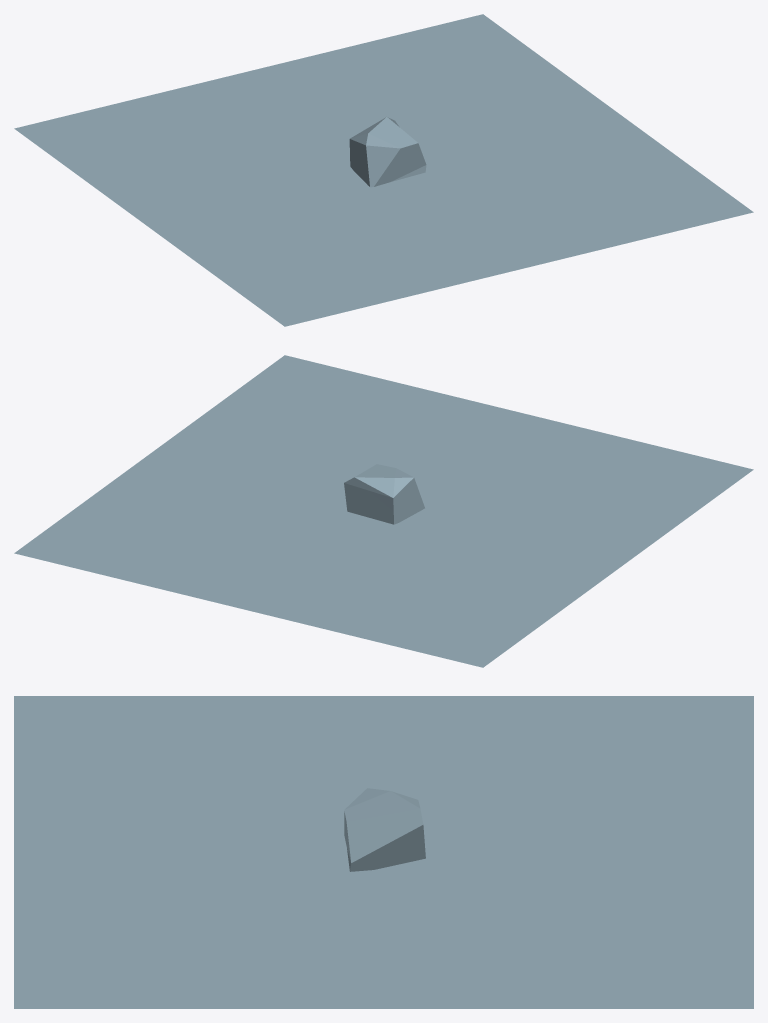
File: Tile 59_Combined.fbx
The picture shows the model from 3 angles, top to bottom: view 1: azimuth 30°, elevation 25°; view 2: azimuth 150°, elevation 25°; view 3: azimuth 270°, elevation 25°; orthographic projection. The views are drawn at different scales.
Parts seen in each view (by area): view 1: MeshBaker_mesh_mesh; view 2: MeshBaker_mesh_mesh; view 3: MeshBaker_mesh_mesh.
Part boxes in pixels (bbox=[...]): MeshBaker_mesh_mesh: bbox=[14, 14, 753, 326]; MeshBaker_mesh_mesh: bbox=[14, 355, 753, 667]; MeshBaker_mesh_mesh: bbox=[14, 696, 753, 1008].
Size of the model in its own units: 3000 by 268 by 3000.
